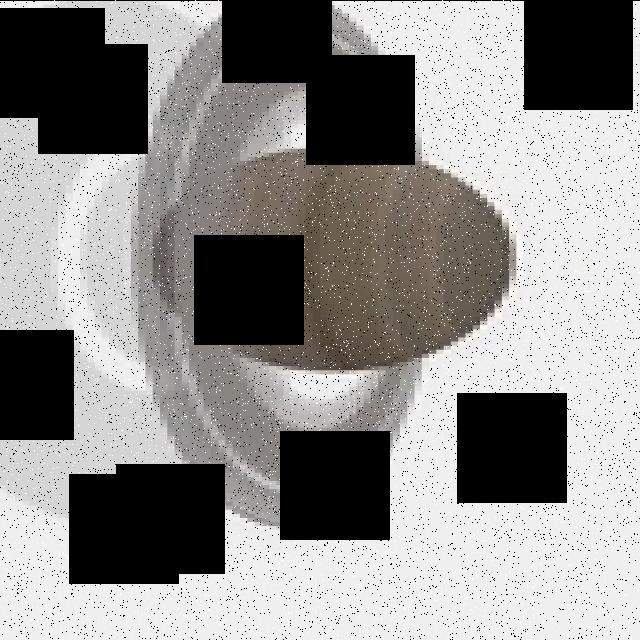Saturn: (138, 0, 530, 529)
